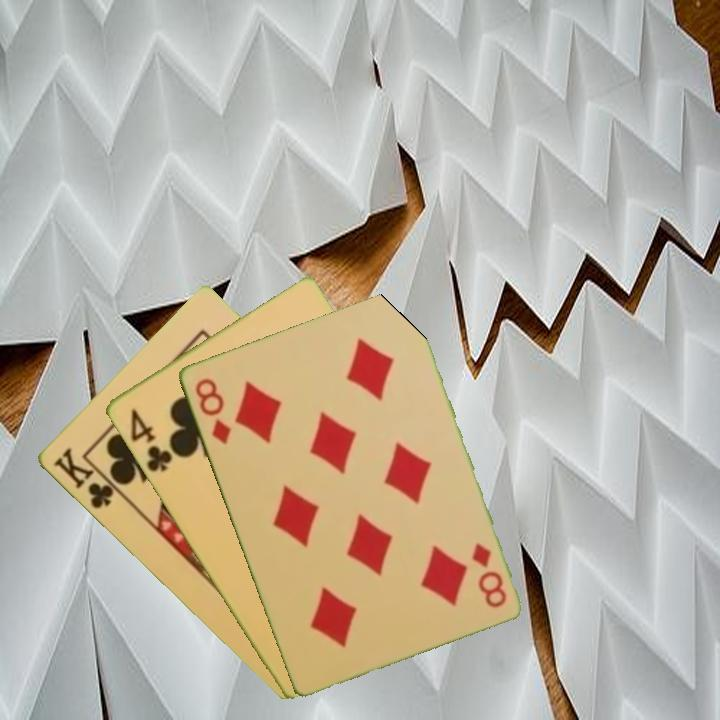4c: (126, 405, 175, 475)
8d: (191, 374, 234, 448), (467, 539, 509, 611)
Kc: (49, 444, 125, 512)
